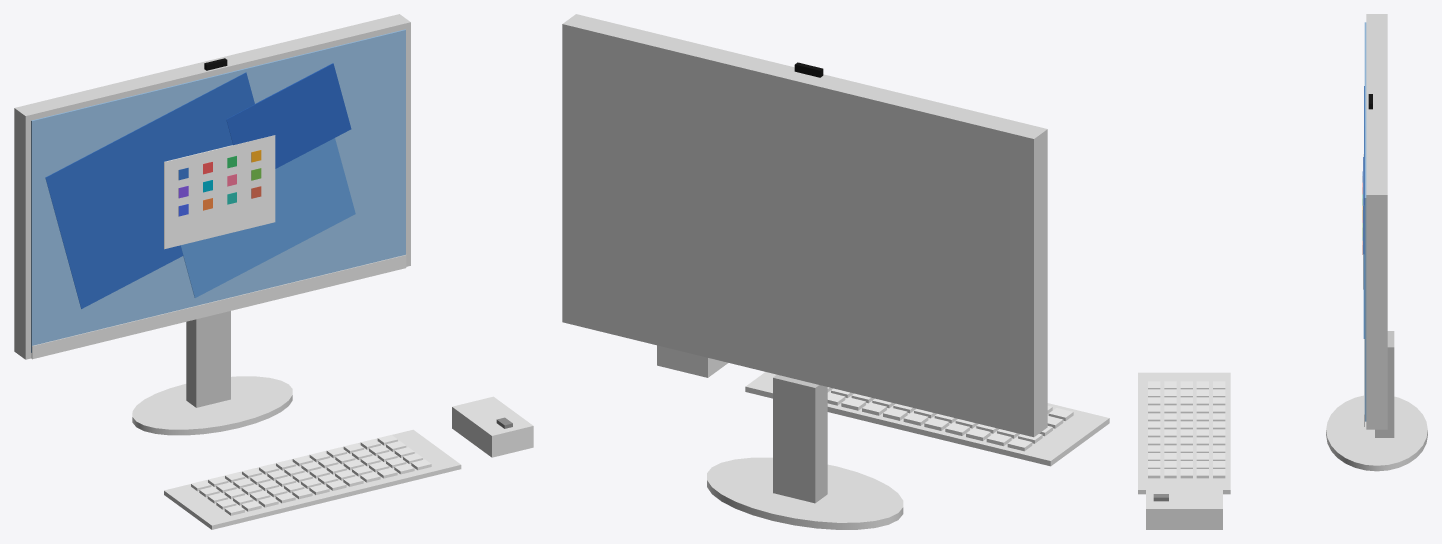
File: 14-aio-hp-white.glb
The picture shows the model from 3 angles, left to right: view 1: azimuth 30°, elevation 25°; view 2: azimuth 150°, elevation 25°; view 3: azimuth 270°, elevation 25°; orthographic projection. The views are drawn at different scales.
Size of the model in its own units: 0.568 by 0.482 by 0.376.
